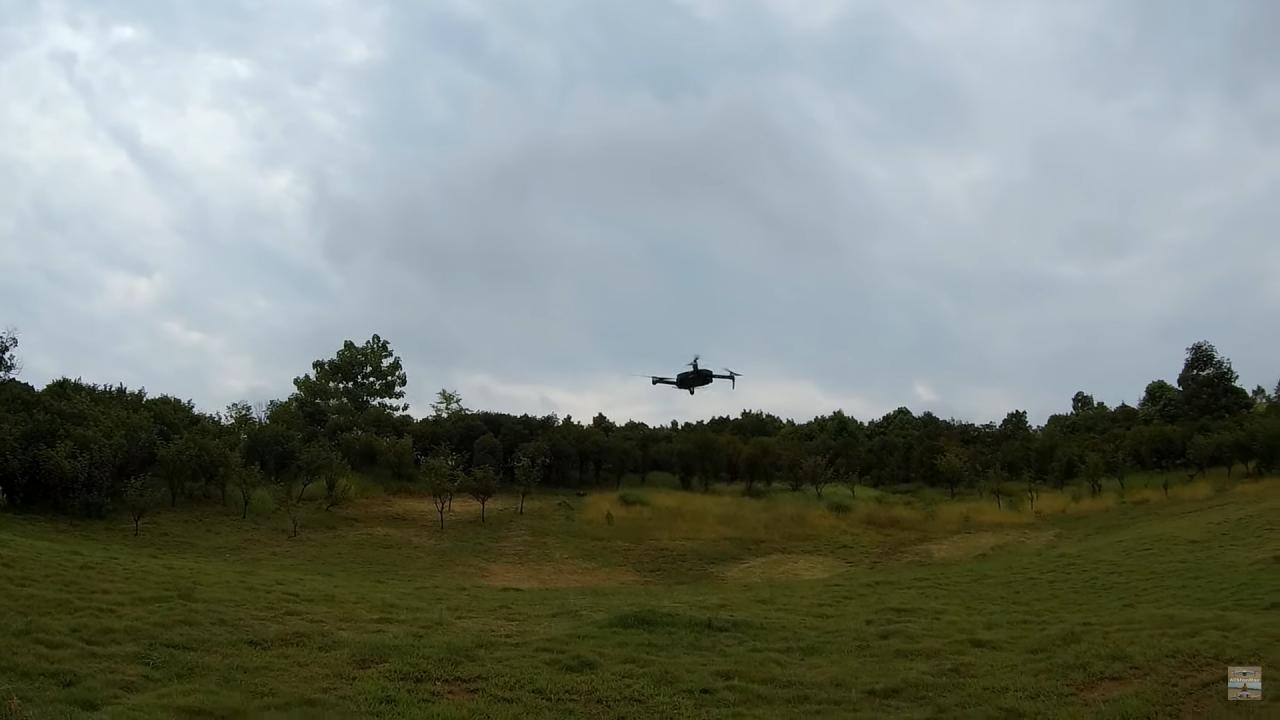Drone: (630, 349, 753, 402)
